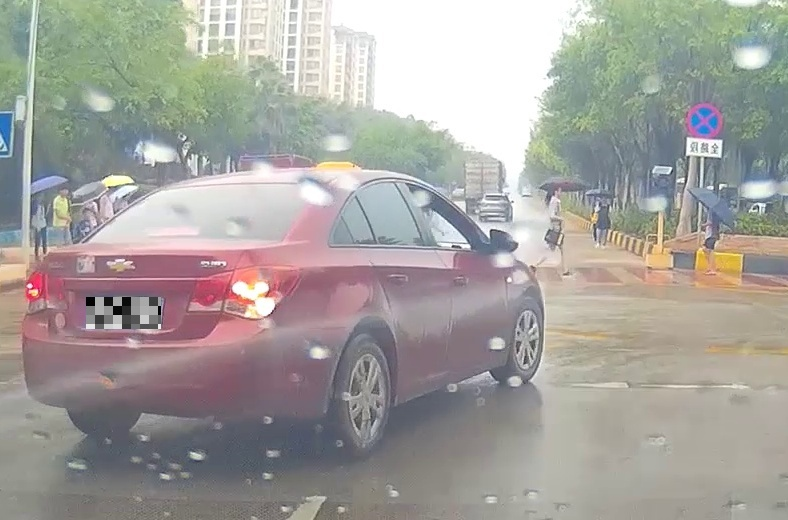L_light: (24, 270, 68, 313)
R_light: (184, 265, 300, 320)
T_light: (148, 225, 198, 236)
day-right: (20, 175, 331, 451)
plate_1: (86, 297, 161, 329)
